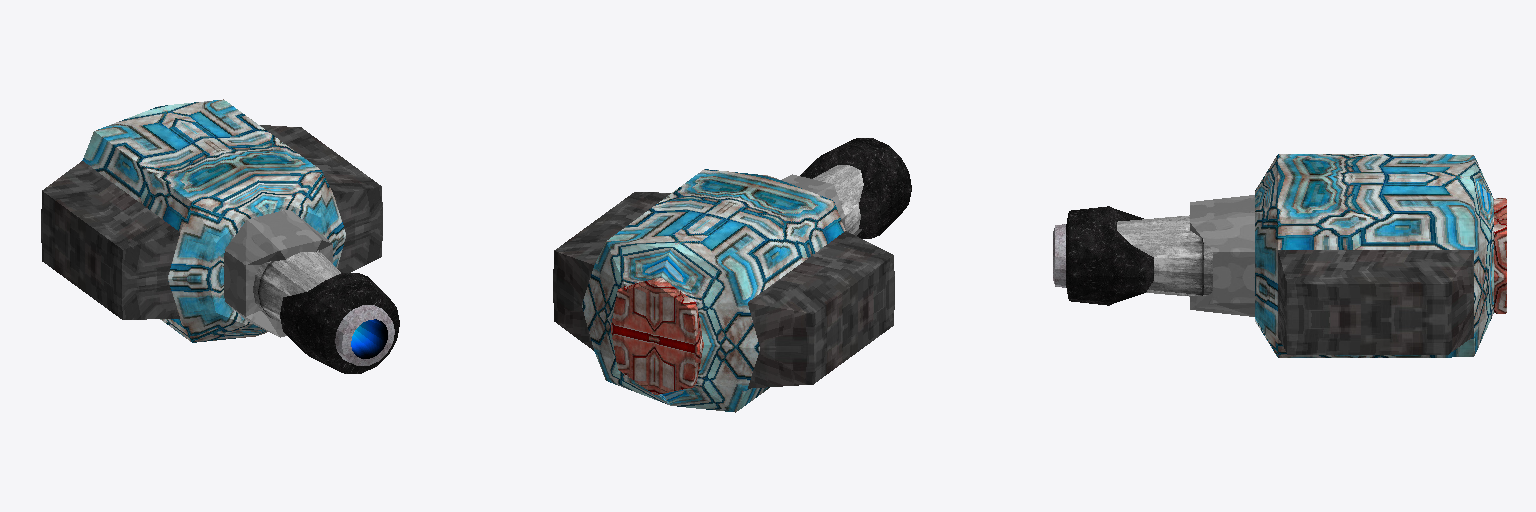
3 views of the same model, side by side, from view 1: azimuth 30°, elevation 25°; view 2: azimuth 150°, elevation 25°; view 3: azimuth 270°, elevation 25° (orthographic).
Visible parts, largest first — view 1: ionblaster.001_Cylinder.007; view 2: ionblaster.001_Cylinder.007; view 3: ionblaster.001_Cylinder.007.
Part boxes in pixels (x1,y1,x2,y2): ionblaster.001_Cylinder.007: (41, 99, 399, 373); ionblaster.001_Cylinder.007: (553, 138, 911, 412); ionblaster.001_Cylinder.007: (1053, 154, 1506, 357).
Bounding box in the file's own units: 0.3015 × 0.1758 × 0.455.
Materials: 1 (1 with a texture image).